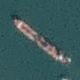ship: (0, 13, 32, 66)
